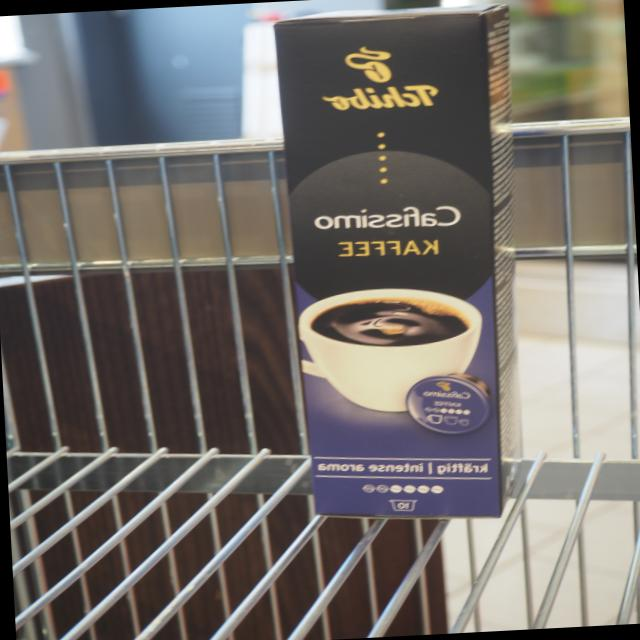Simo Kaffee Kraft: (266, 7, 516, 532)
